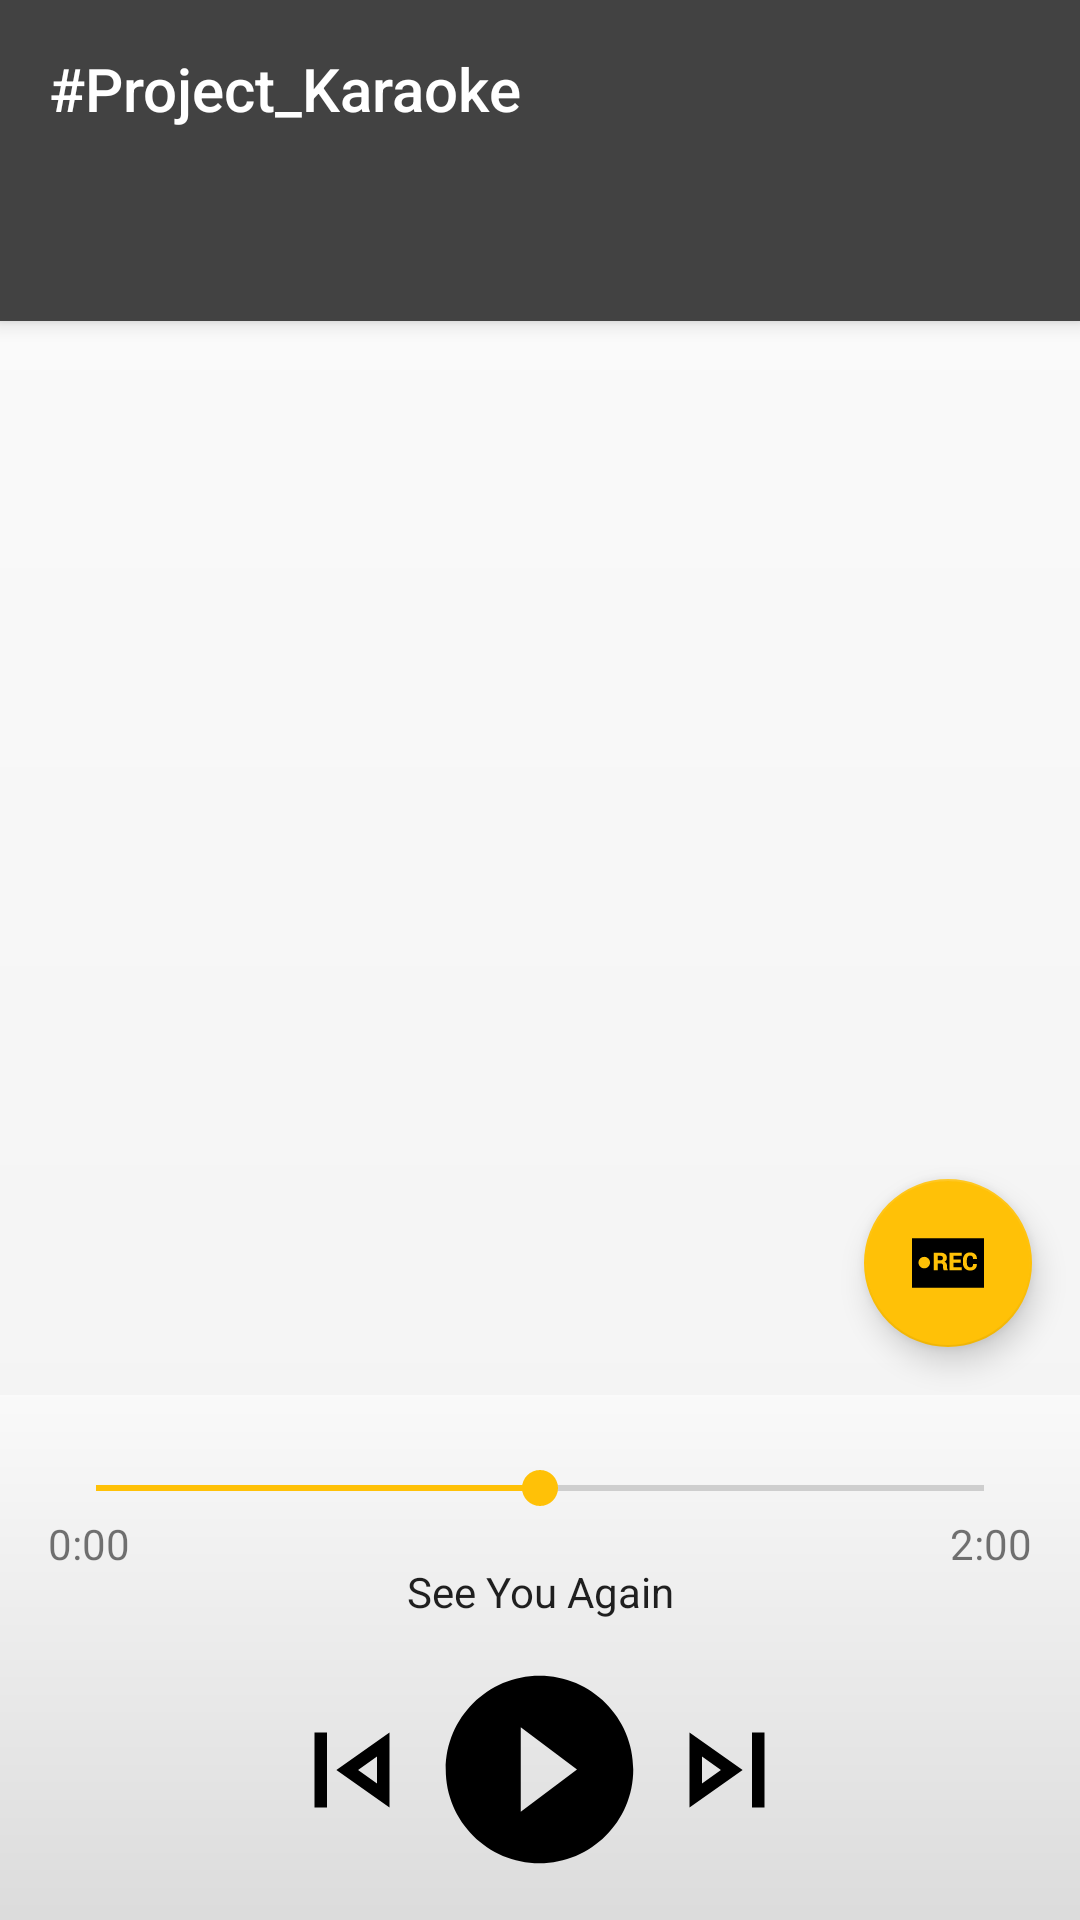

Icons on this 1080 x 1920 Android screen, each with its box as (x1, y1, x2, y2):
play: (445, 1675, 634, 1864)
skip next: (689, 1732, 765, 1808)
skip previous: (314, 1732, 390, 1808)
